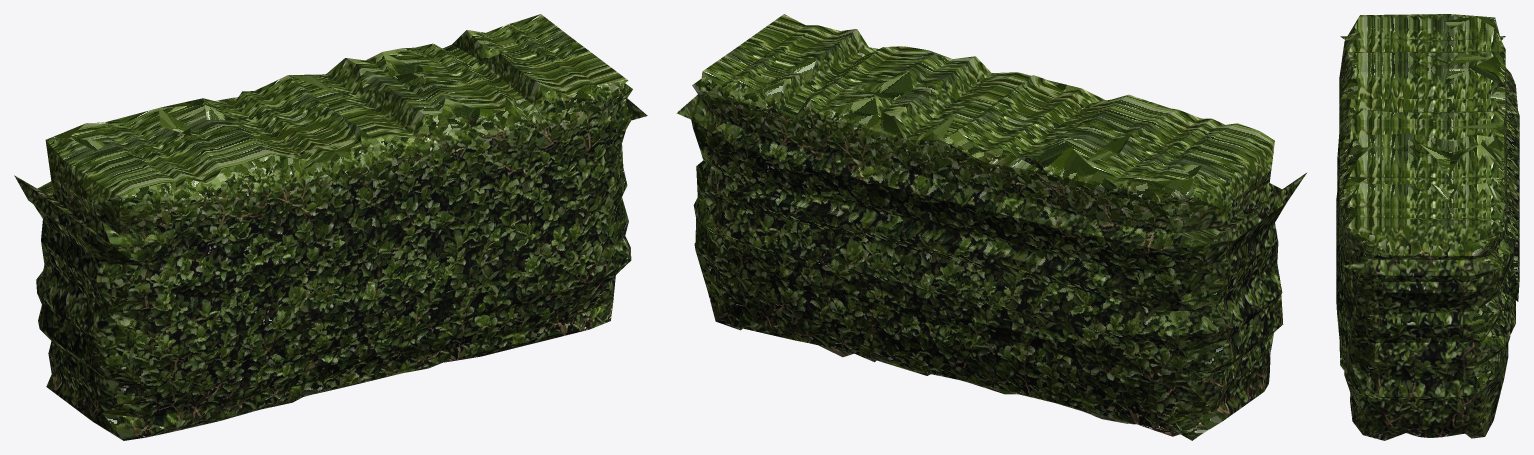
File: hedge_high.glb
The picture shows the model from 3 angles, left to right: view 1: azimuth 30°, elevation 25°; view 2: azimuth 150°, elevation 25°; view 3: azimuth 270°, elevation 25°; orthographic projection. The views are drawn at different scales.
Visible parts, largest first — view 1: hedge_high; view 2: hedge_high; view 3: hedge_high.
Part boxes in pixels (x1,y1,x2,y2): hedge_high: (14, 14, 647, 440); hedge_high: (676, 14, 1306, 440); hedge_high: (1336, 14, 1519, 440).
Size of the model in its own units: 2.97 by 1.41 by 0.989.
1 material, 1 textured.
